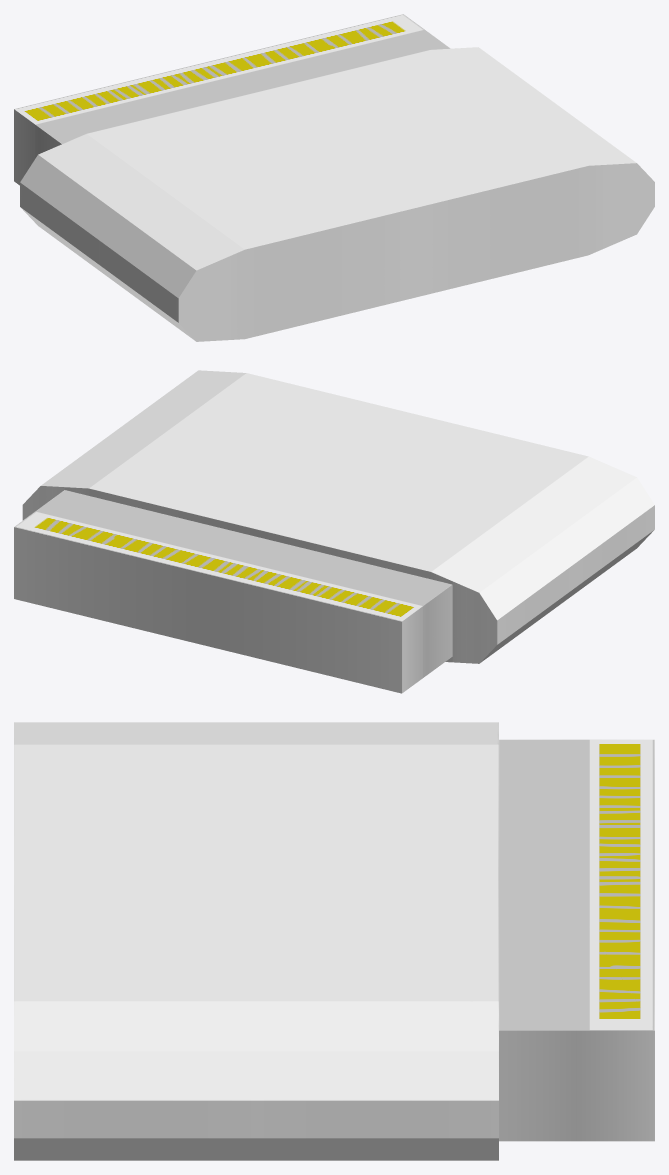
Rendered from iPhone4转换头.fbx.
The picture shows the model from 3 angles, top to bottom: view 1: azimuth 30°, elevation 25°; view 2: azimuth 150°, elevation 25°; view 3: azimuth 270°, elevation 25°; orthographic projection. The views are drawn at different scales.
Visible parts, largest first — view 1: 立方体.001; view 2: 立方体.001; view 3: 立方体.001.
Boxes of the visible parts, x1,y1,x2,y2 form: 立方体.001: [14, 14, 654, 341]; 立方体.001: [14, 370, 654, 693]; 立方体.001: [14, 722, 654, 1160].
Size of the model in its own units: 127 by 22.87 by 96.94.
Materials: 1 (1 with a texture image).
